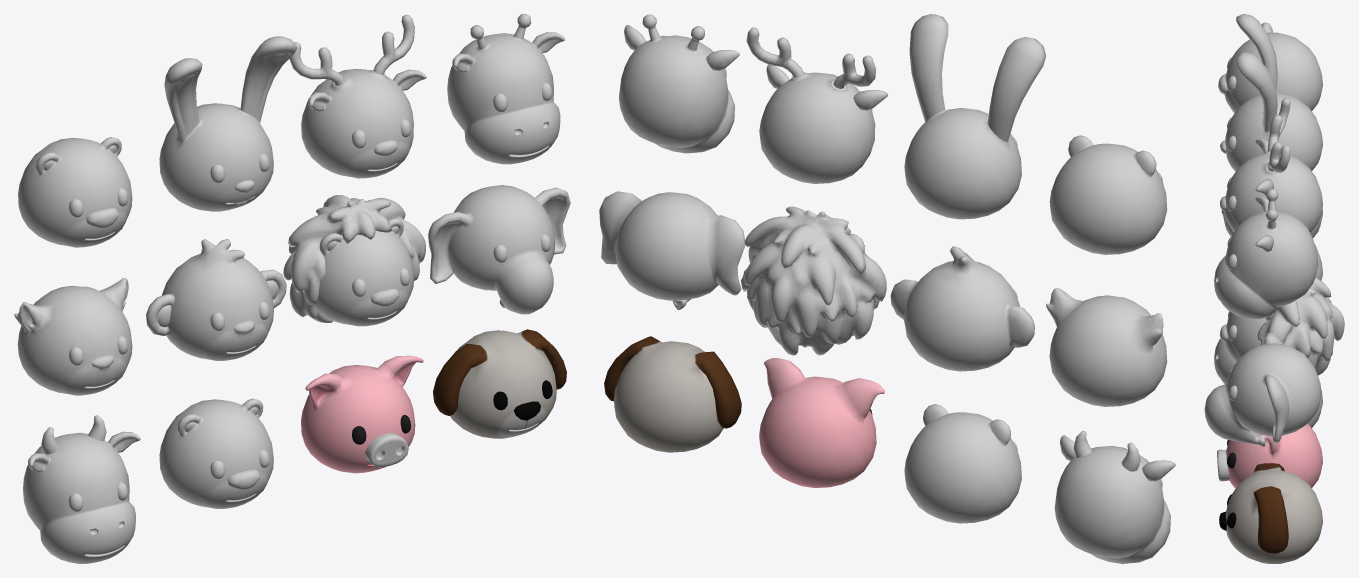
File: animal heads.fbx
3 views of the same model, side by side, from view 1: azimuth 30°, elevation 25°; view 2: azimuth 150°, elevation 25°; view 3: azimuth 270°, elevation 25° (orthographic). The views are drawn at different scales.
Visible parts, largest first — view 1: Lion, Rabbit, Elephant, Giraffe, Cow, Deer, Monkey, Dog, Pig, Tiger, Panda, Bear; view 2: Rabbit, Lion, Deer, Elephant, Pig, Giraffe, Dog, Cow, Monkey, Tiger, Bear, Panda; view 3: Elephant, Giraffe, Dog, Rabbit, Deer, Lion, Panda, Pig, Cow, Tiger.
Boxes of the visible parts, <box> form: Lion: <box>283,195,425,326</box>; Rabbit: <box>159,36,297,211</box>; Elephant: <box>428,185,570,314</box>; Giraffe: <box>447,14,564,164</box>; Cow: <box>23,415,140,563</box>; Deer: <box>289,14,426,178</box>; Monkey: <box>146,239,286,360</box>; Dog: <box>433,329,566,438</box>; Pig: <box>301,355,423,473</box>; Tiger: <box>14,278,132,395</box>; Panda: <box>18,137,132,247</box>; Bear: <box>159,398,273,508</box>; Rabbit: <box>904,14,1045,219</box>; Lion: <box>741,206,886,355</box>; Deer: <box>746,27,887,183</box>; Elephant: <box>599,191,745,310</box>; Pig: <box>759,358,884,487</box>; Giraffe: <box>619,14,739,153</box>; Dog: <box>604,336,741,452</box>; Cow: <box>1054,430,1175,563</box>; Monkey: <box>890,246,1034,371</box>; Tiger: <box>1046,288,1167,406</box>; Bear: <box>904,404,1021,523</box>; Panda: <box>1049,135,1167,254</box>; Elephant: <box>1204,332,1321,446</box>; Giraffe: <box>1214,189,1318,319</box>; Dog: <box>1219,463,1322,563</box>; Rabbit: <box>1220,14,1322,171</box>; Deer: <box>1220,98,1322,232</box>; Lion: <box>1219,277,1344,375</box>; Panda: <box>1218,22,1322,112</box>; Pig: <box>1217,423,1322,488</box>; Cow: <box>1214,320,1235,384</box>; Tiger: <box>1221,208,1322,237</box>.
Bounding box in the file's own units: 23394 × 19408 × 5928.
